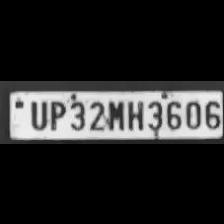0: (182, 97, 200, 128)
2: (86, 97, 106, 130)
3: (66, 97, 86, 129), (146, 97, 162, 129)
6: (202, 97, 222, 128), (164, 97, 182, 129)
H: (124, 97, 144, 130)
M: (104, 97, 124, 130)
P: (47, 97, 65, 130)
U: (27, 98, 47, 130)
